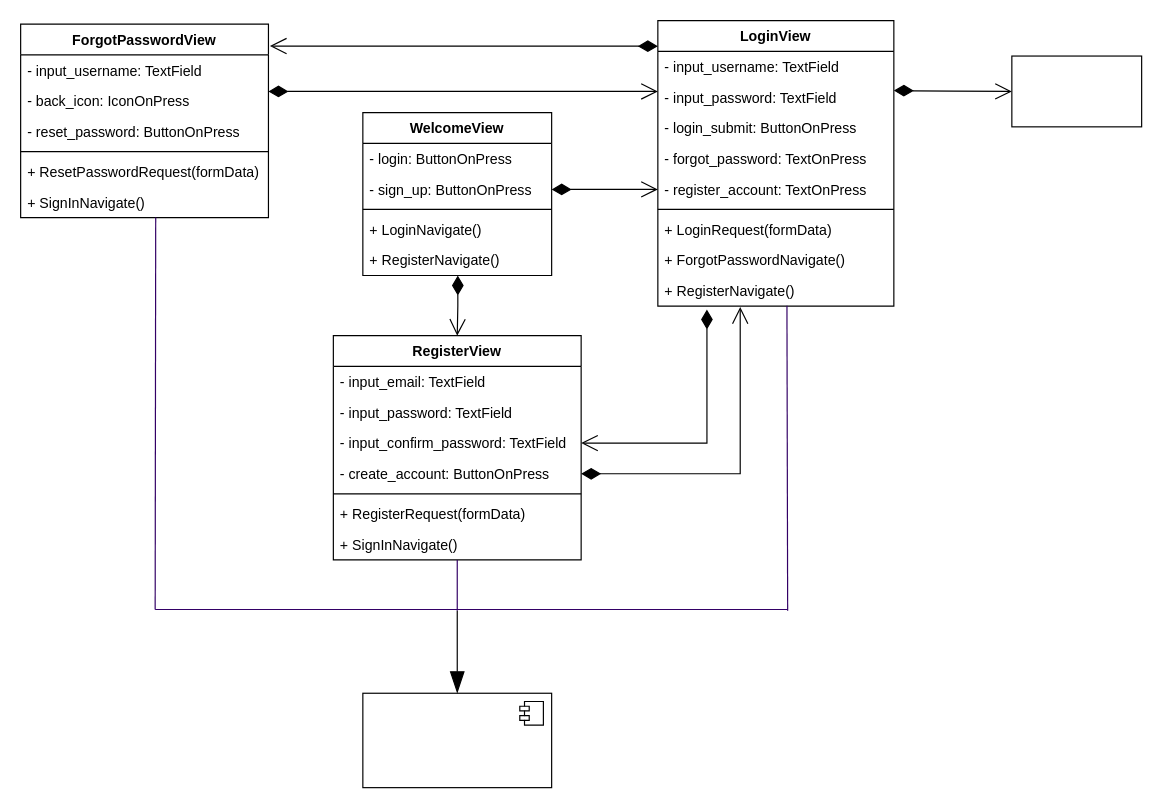
This 1162x808 diagram has some shape labels left out. Here are the shapes that lost their labels. From the top down, the centre of each, then its label:
At (x=1076, y=91): "DashBoardView".
At (x=457, y=740): "«Controllers» Component".
